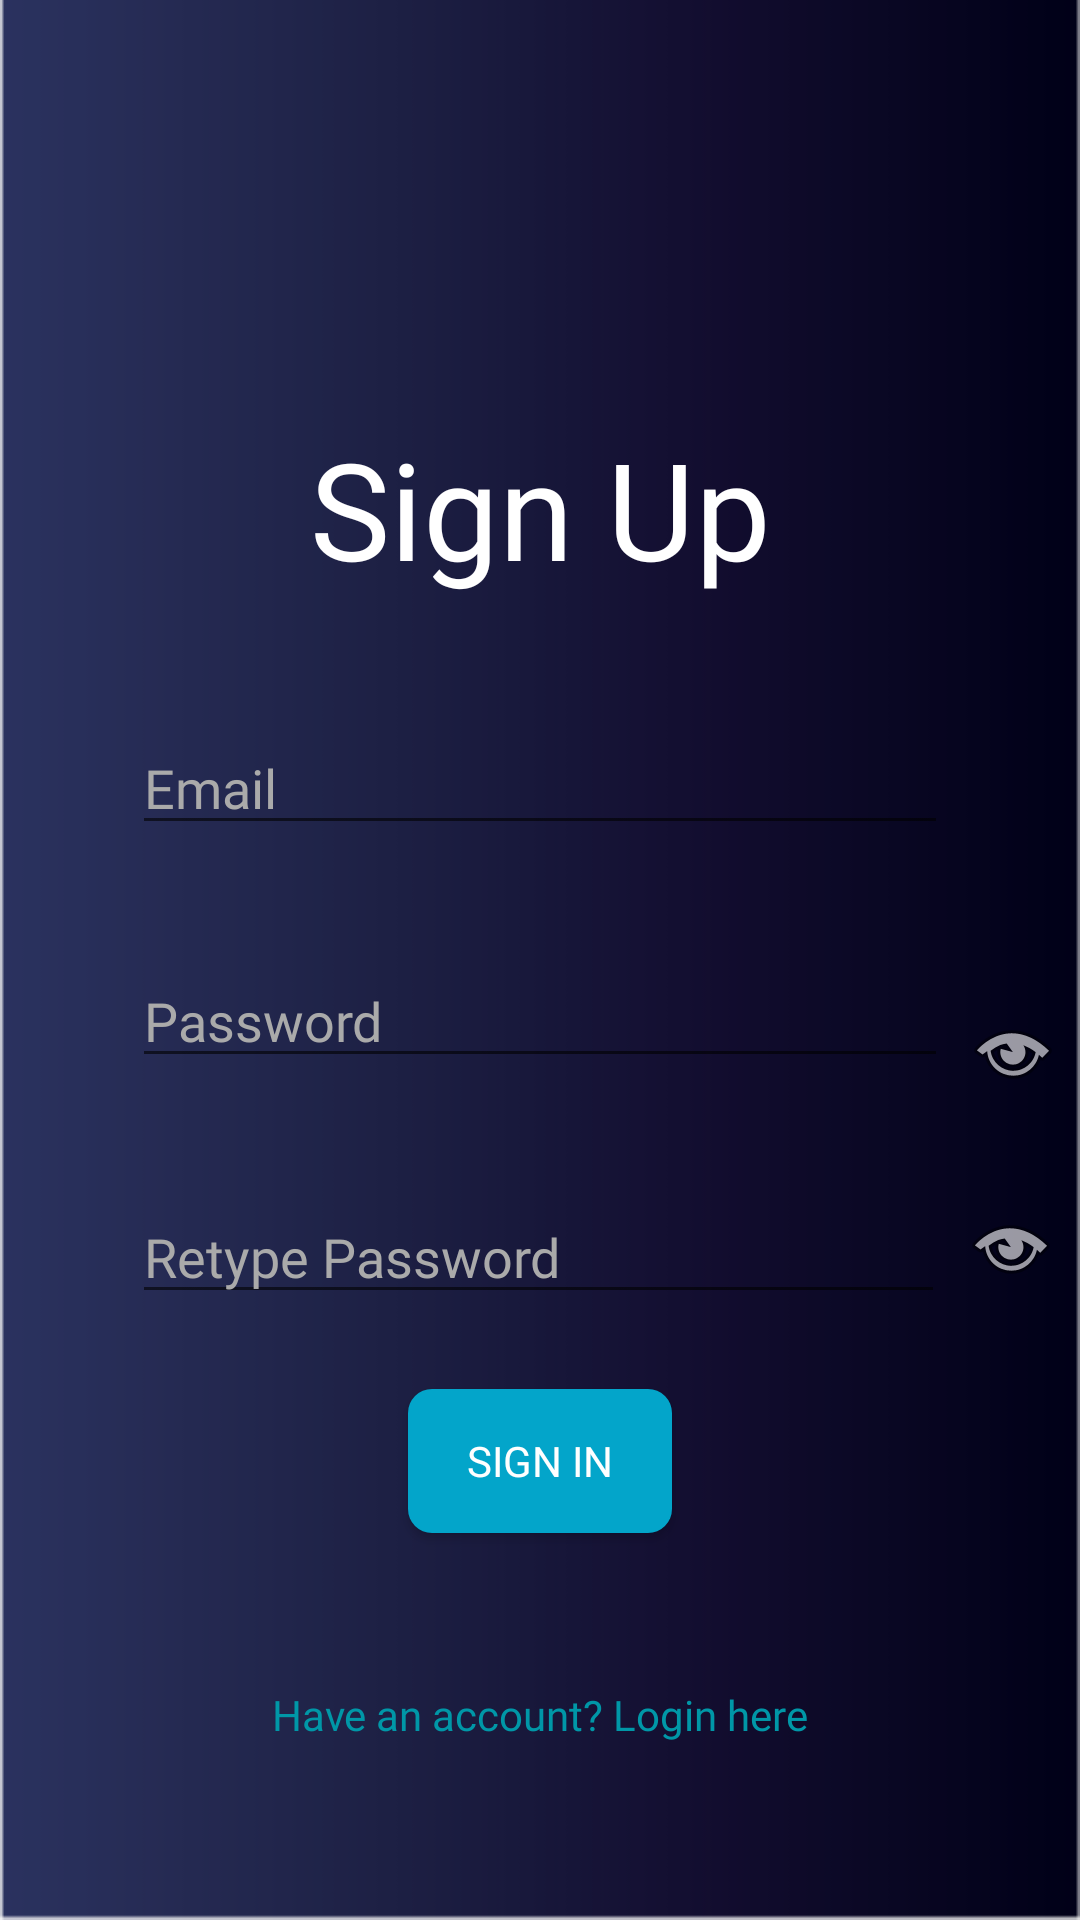

Screen size 1080*1920. Icon name, then its center in pixels as [x,y]:
view: [1013,1054], [1011,1249]
